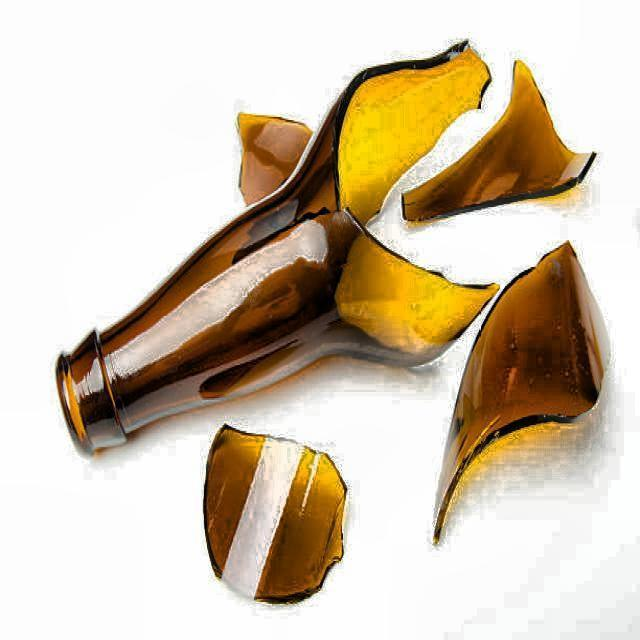glass: (56, 43, 500, 454), (433, 242, 610, 546), (401, 60, 597, 221), (202, 426, 348, 606), (238, 112, 313, 205)
